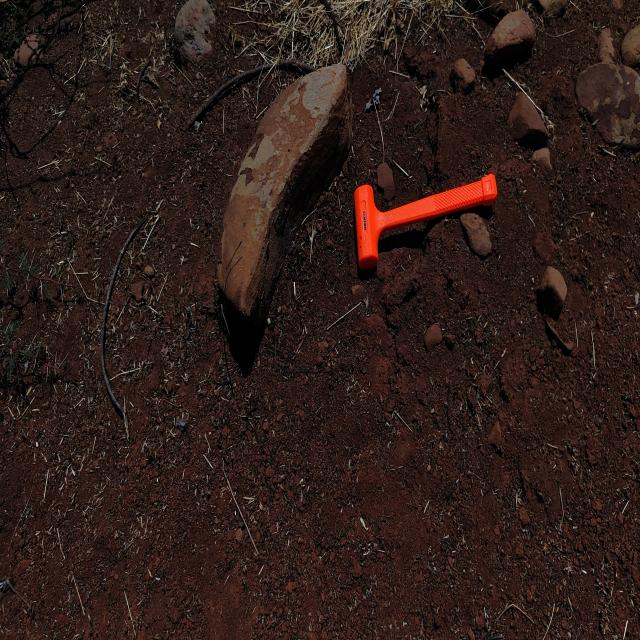Orange_hammer: (353, 171, 498, 272)
